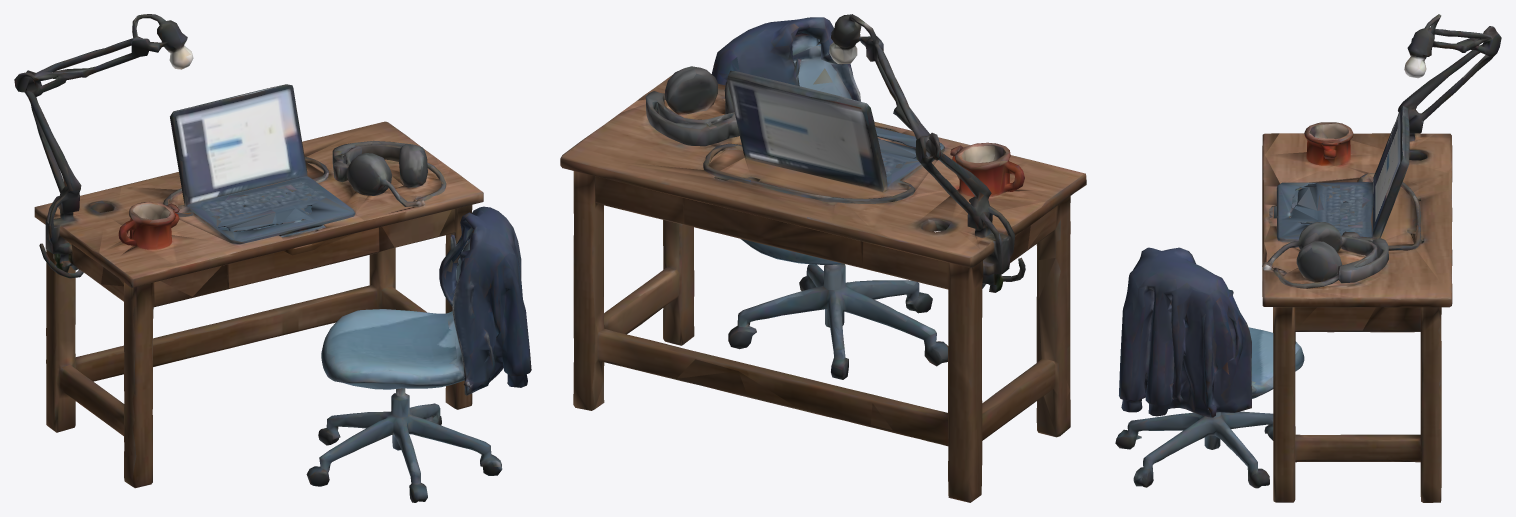
The model's file is sc-desk-corner.glb.
3 renders of one model, left to right at view 1: azimuth 30°, elevation 25°; view 2: azimuth 150°, elevation 25°; view 3: azimuth 270°, elevation 25°, orthographic. The views are drawn at different scales.
Visible parts, largest first — view 1: geometry_0; view 2: geometry_0; view 3: geometry_0.
Boxes of the visible parts, bbox=[...] form: geometry_0: bbox=[14, 14, 531, 502]; geometry_0: bbox=[560, 14, 1086, 502]; geometry_0: bbox=[1115, 14, 1501, 502].
Size of the model in its own units: 0.9887 by 1 by 0.9273.
1 material, 1 textured.
